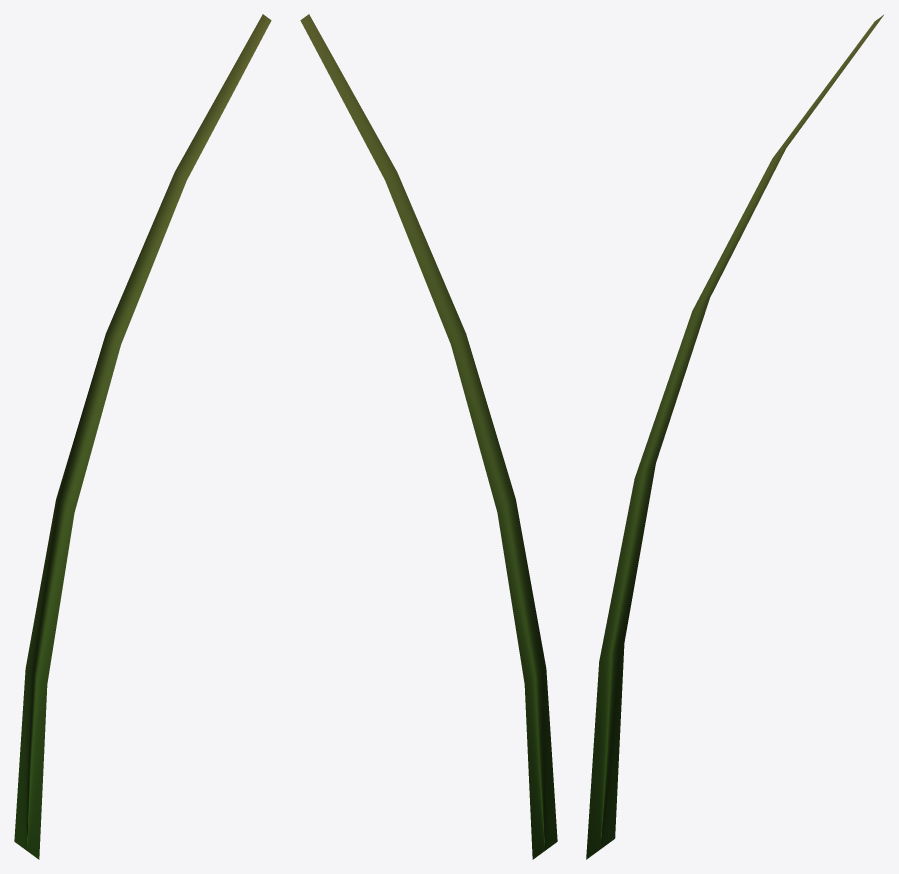
File: Blade_Wild_Thin.glb
The picture shows the model from 3 angles, left to right: view 1: azimuth 30°, elevation 25°; view 2: azimuth 150°, elevation 25°; view 3: azimuth 330°, elevation 25°; orthographic projection. The views are drawn at different scales.
Parts seen in each view (by area): view 1: Blade_Wild_Thin; view 2: Blade_Wild_Thin; view 3: Blade_Wild_Thin.
Part boxes in pixels (x1,y1,x2,y2): Blade_Wild_Thin: (14,14,271,859); Blade_Wild_Thin: (300,14,557,859); Blade_Wild_Thin: (586,15,883,859).
Bounding box in the file's own units: 0.1 × 0.308 × 0.018.
